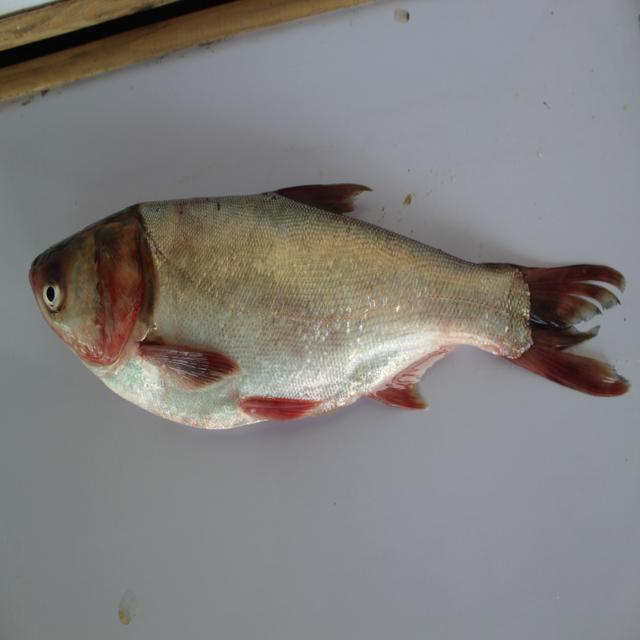SilverCarp: (22, 185, 621, 455)
